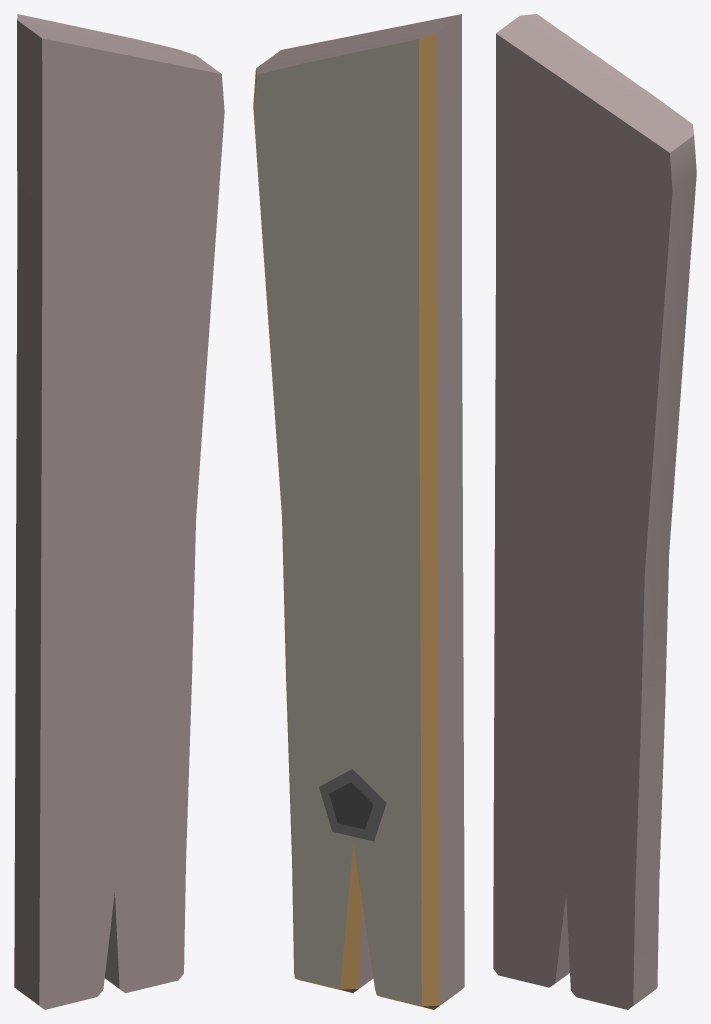
Rendered from WoodBoardE.fbx.
3 renders of one model, left to right at view 1: azimuth 30°, elevation 25°; view 2: azimuth 150°, elevation 25°; view 3: azimuth 330°, elevation 25°, orthographic. The views are drawn at different scales.
Visible parts, largest first — view 1: WoodBoardE; view 2: WoodBoardE; view 3: WoodBoardE.
Boxes of the visible parts, x1,y1,x2,y2 form: WoodBoardE: [14, 14, 224, 1009]; WoodBoardE: [253, 14, 464, 1009]; WoodBoardE: [493, 14, 696, 1009].
Bounding box in the file's own units: 46.11 × 232 × 15.09.
